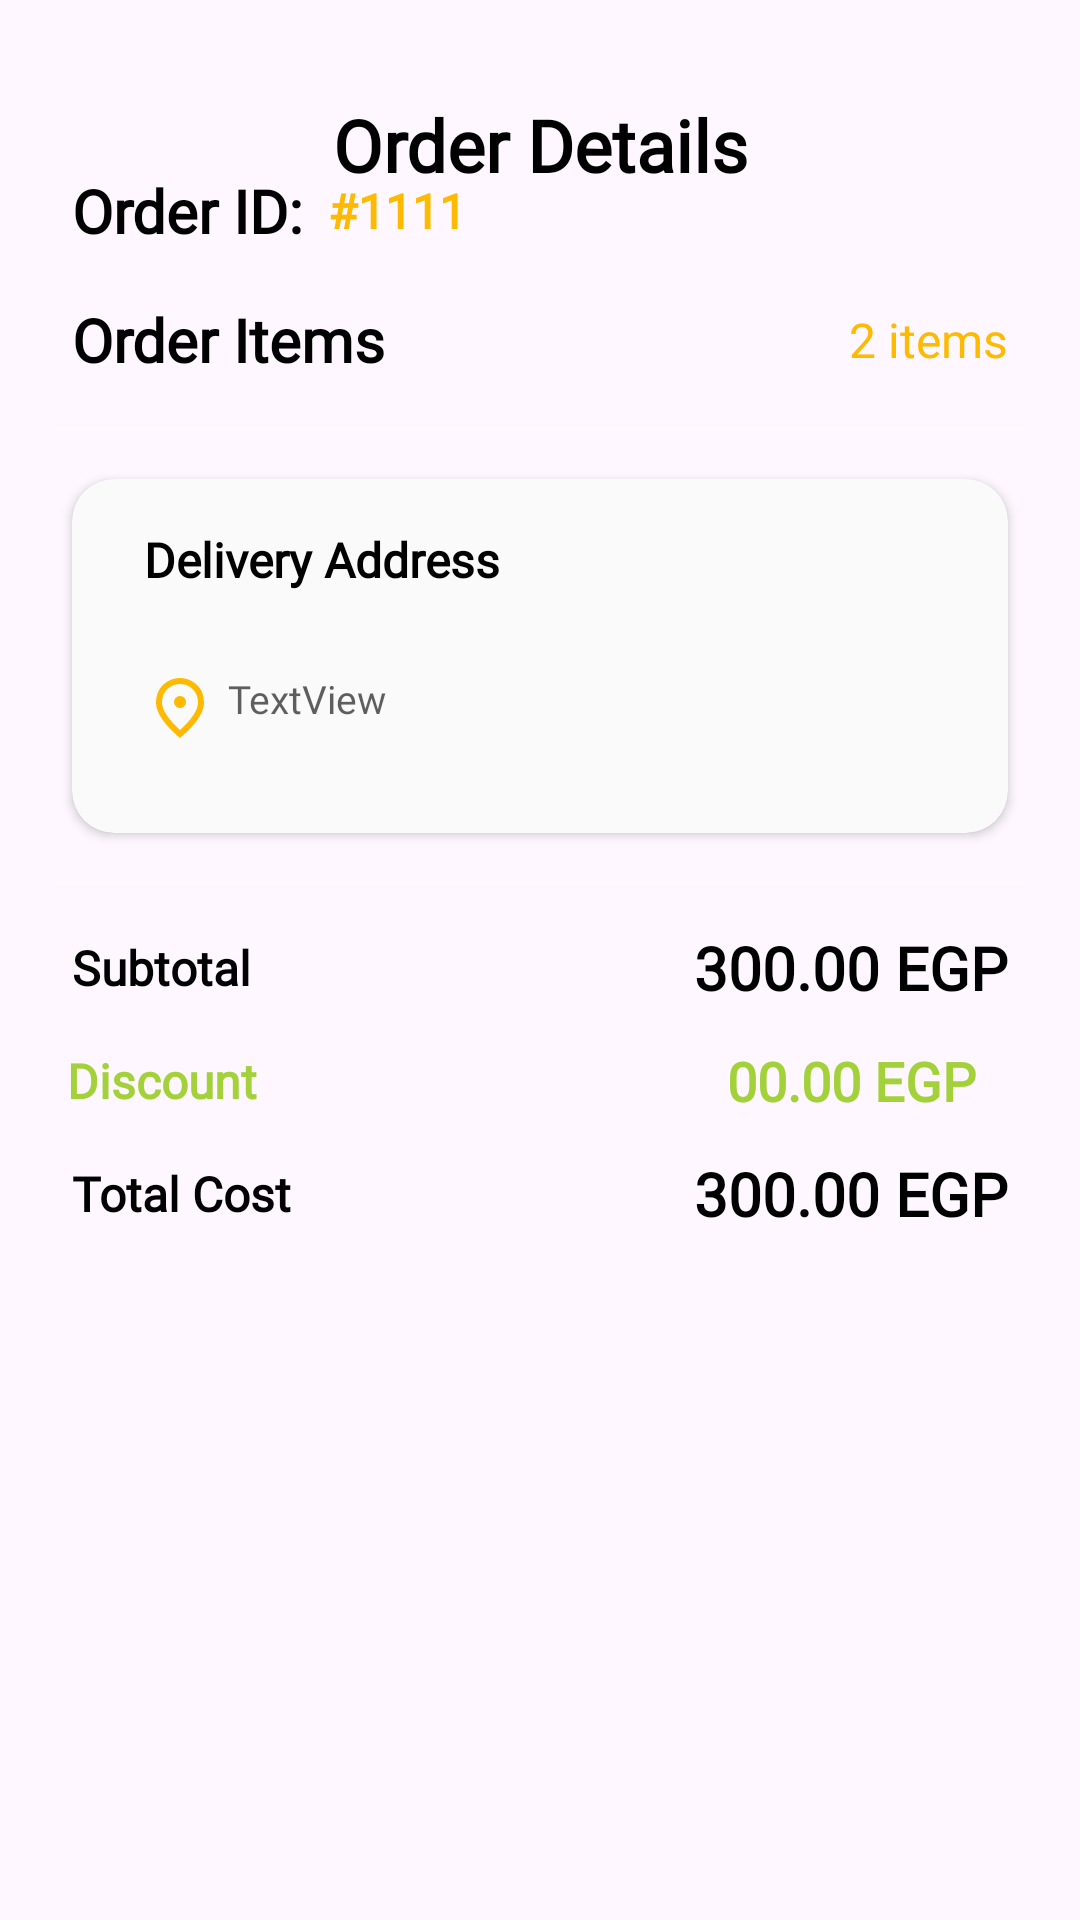

Locate icon controls on the screen. Image size 1080w x 1920h, boxes as [x1=x1, y1=y1, x2=x2, y2=y2].
location: [x1=156, y1=678, x2=204, y2=738]
